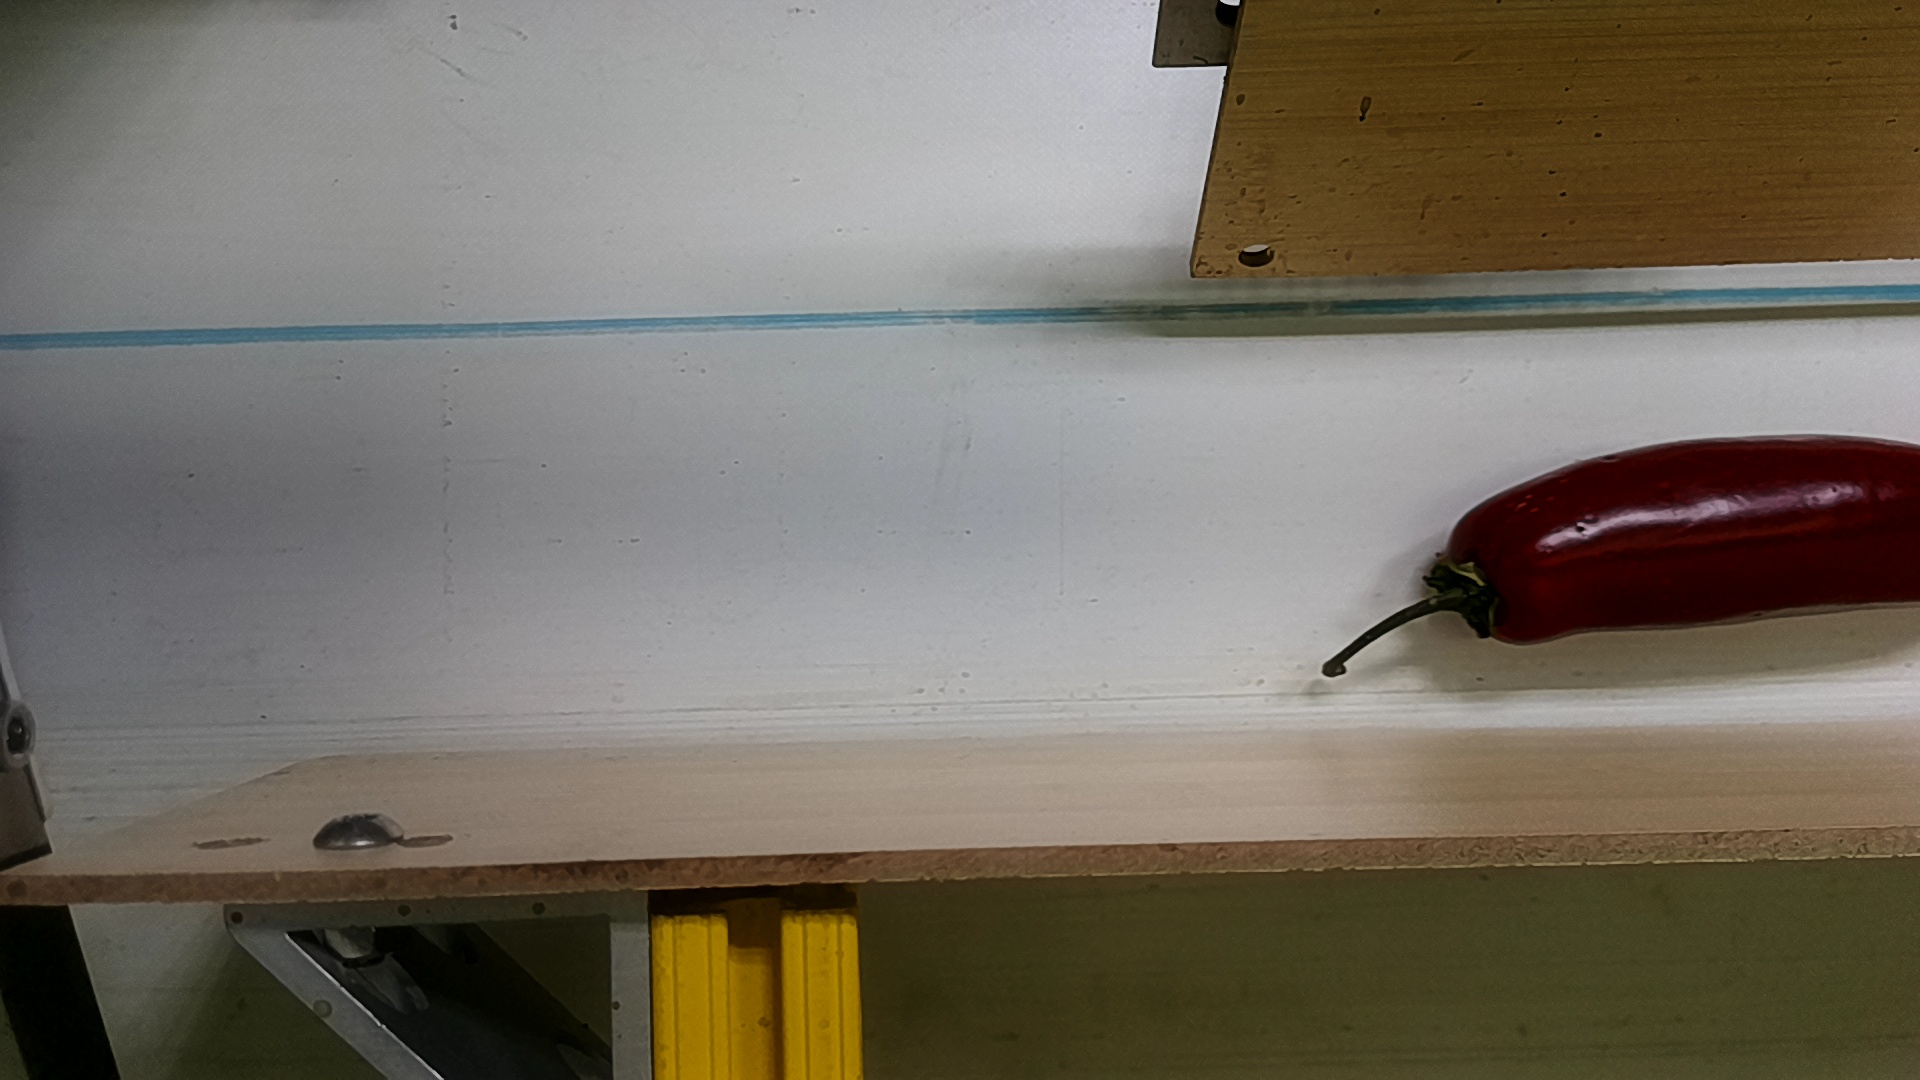Cut Point: (1433, 501, 1538, 649)
